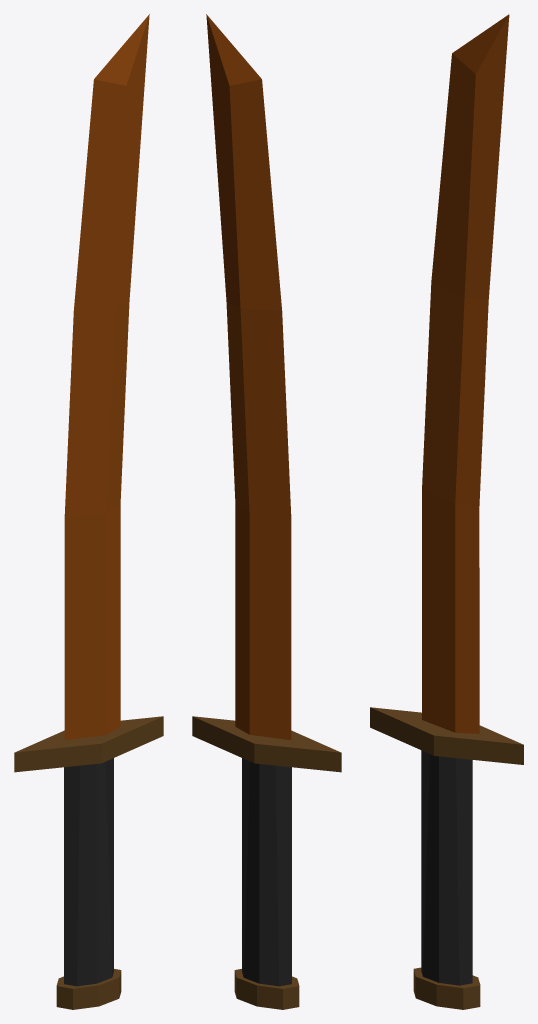
The model's file is 1 katana.fbx.
The picture shows the model from 3 angles, left to right: view 1: azimuth 30°, elevation 25°; view 2: azimuth 150°, elevation 25°; view 3: azimuth 330°, elevation 25°; orthographic projection. The views are drawn at different scales.
Visible parts, largest first — view 1: Knife, rukoyat; view 2: Knife, rukoyat; view 3: Knife, rukoyat.
Part boxes in pixels (x1=…): Knife: x1=64, y1=14, x2=149, y2=740; rukoyat: x1=14, y1=716, x2=163, y2=1009; Knife: x1=206, y1=14, x2=291, y2=740; rukoyat: x1=192, y1=716, x2=341, y2=1009; Knife: x1=422, y1=14, x2=509, y2=733; rukoyat: x1=370, y1=707, x2=523, y2=1009.
Size of the model in its own units: 395 by 2452 by 116.
